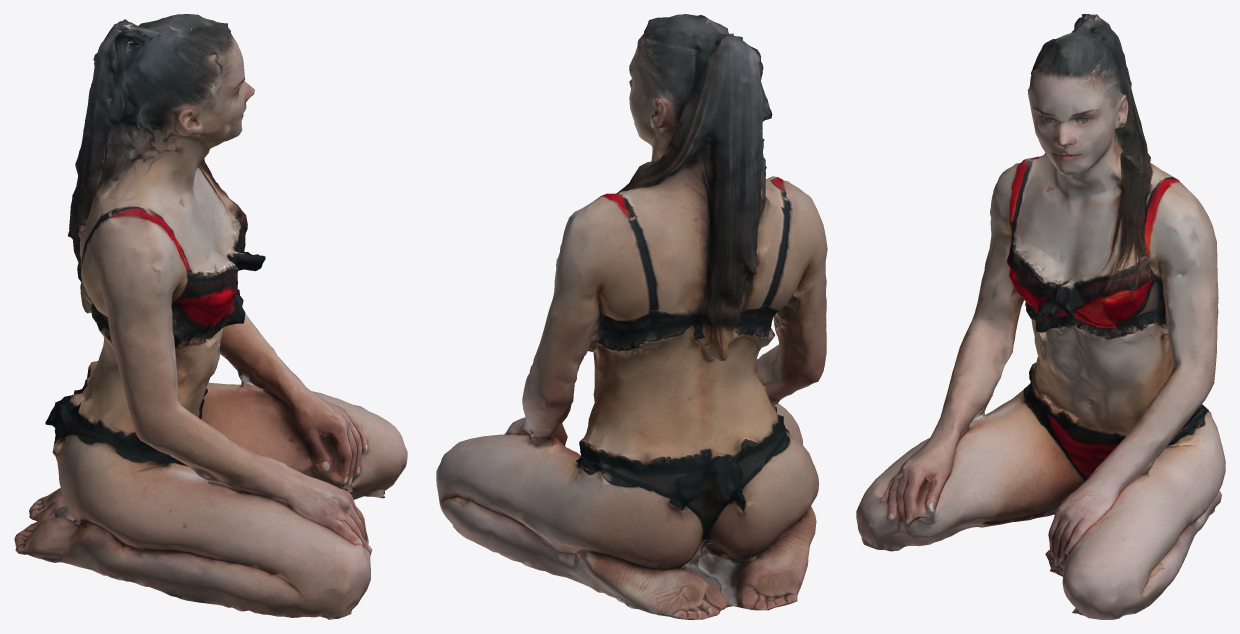
The model's file is pole_real.glb.
The picture shows the model from 3 angles, left to right: view 1: azimuth 30°, elevation 25°; view 2: azimuth 150°, elevation 25°; view 3: azimuth 270°, elevation 25°; orthographic projection. The views are drawn at different scales.
Bounding box in the file's own units: 0.8015 × 1.11 × 0.763.
Materials: 2 (2 with a texture image).
